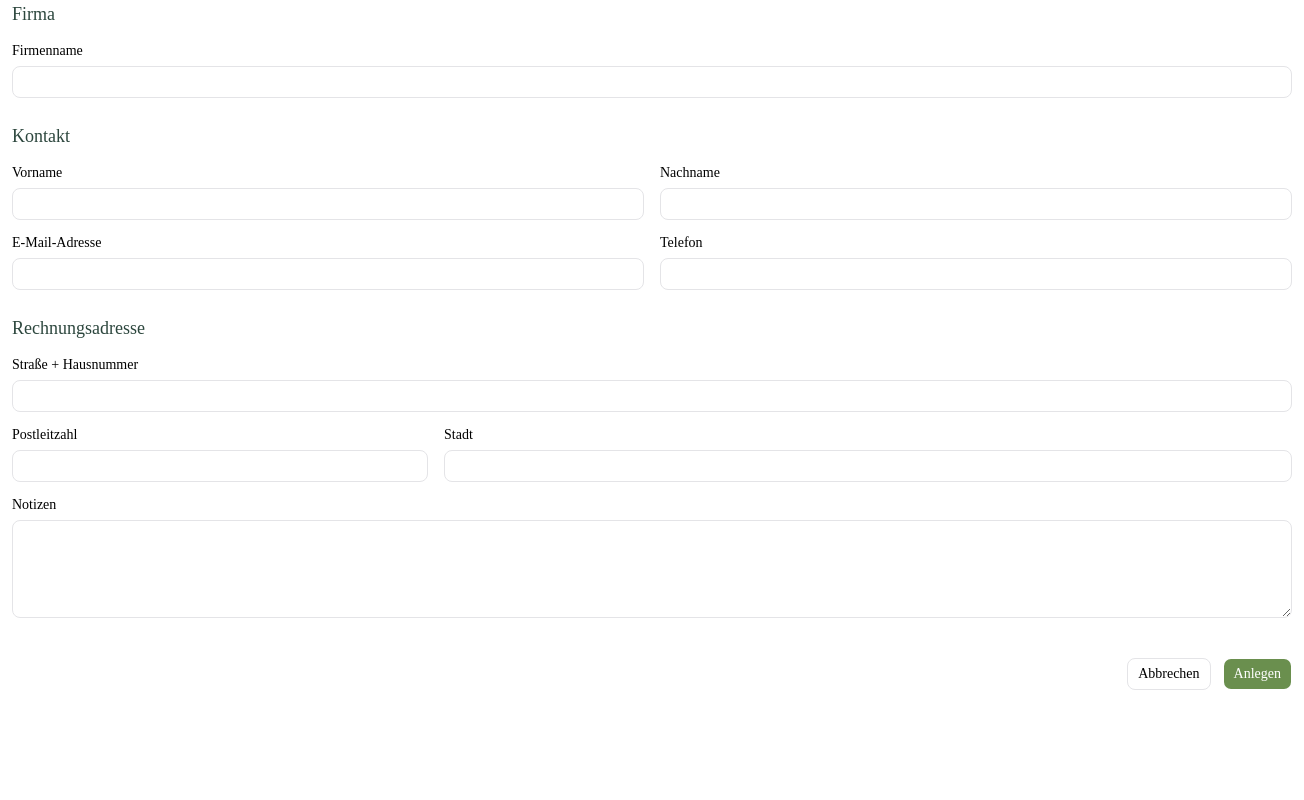
Test: CustomerForm — create mode › shows the loading state ('Wird gespeichert…') and disables both buttons while pending
The image size is (1304, 800).
Type "Anna" into the field labelled "Vorname" at (328, 204), box [12,188,644,220]
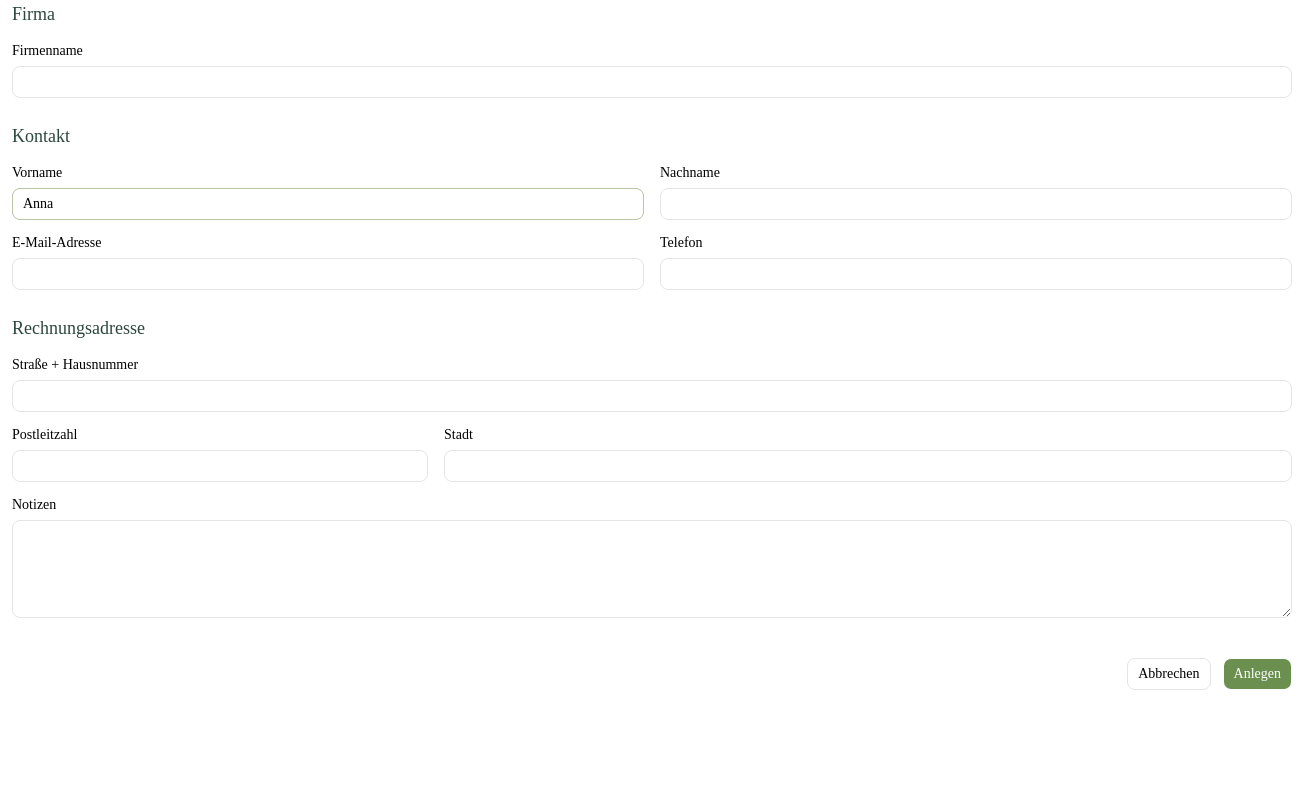
Type "Berger" into the field labelled "Nachname" at (976, 204), box [660,188,1292,220]
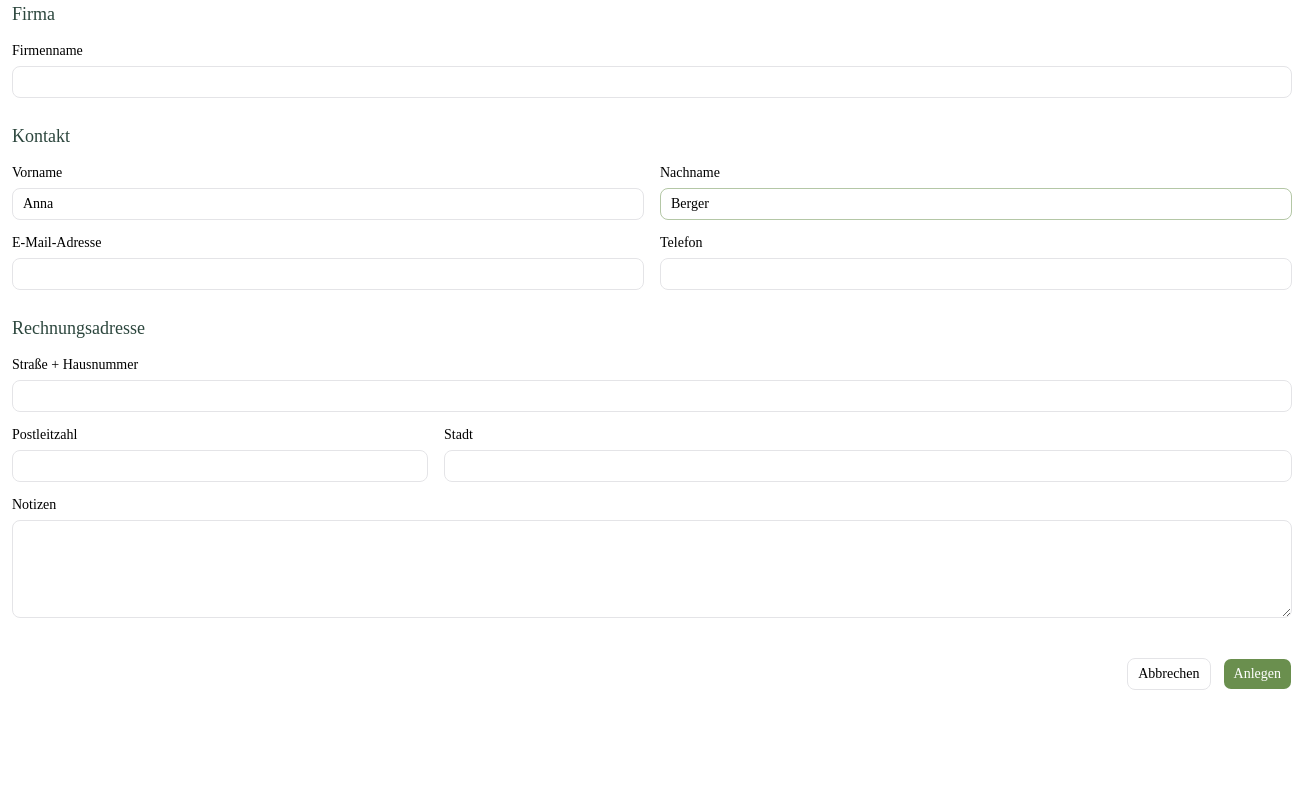
Click the button "Anlegen" at (1257, 674), box [1223,658,1292,690]
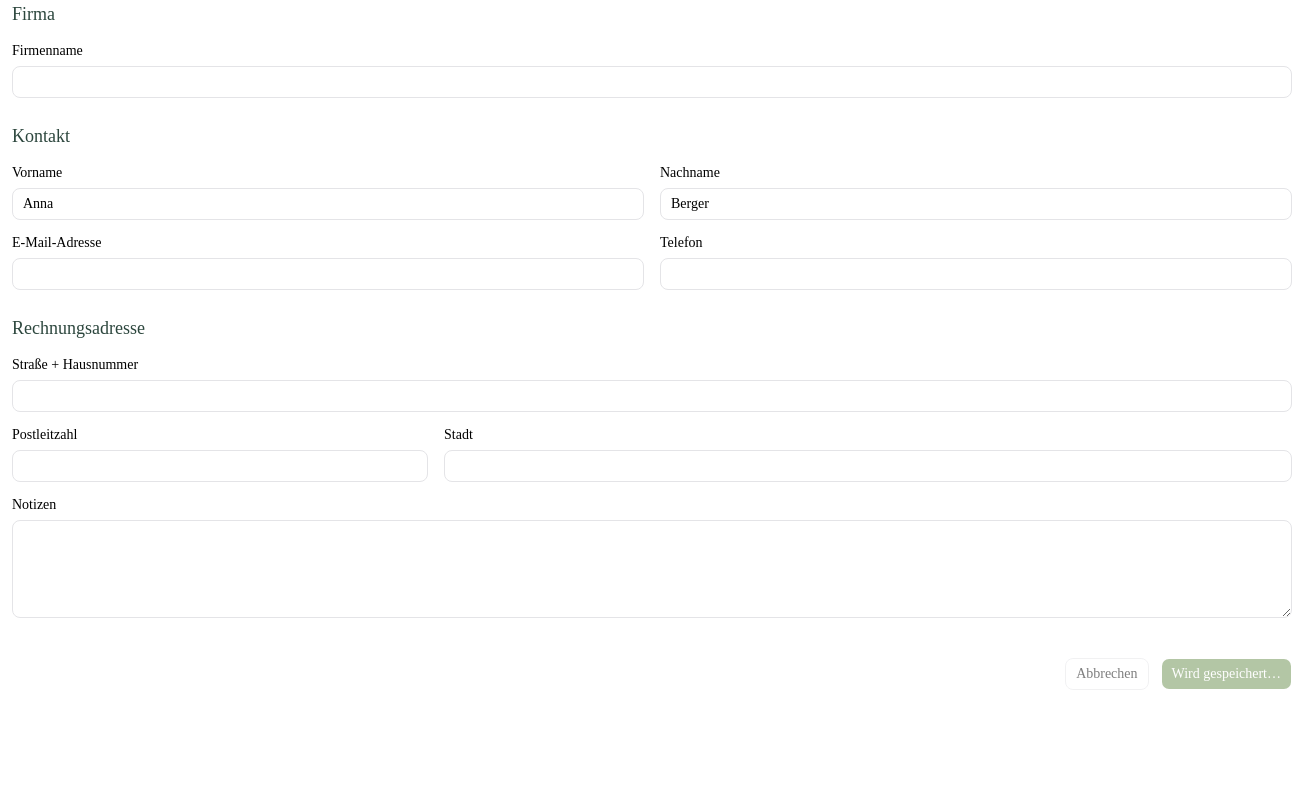
Now the button "Wird gespeichert…" is disabled, box [1160,658,1292,690]
Now the button "Abbrechen" is disabled, box [1065,658,1148,690]
